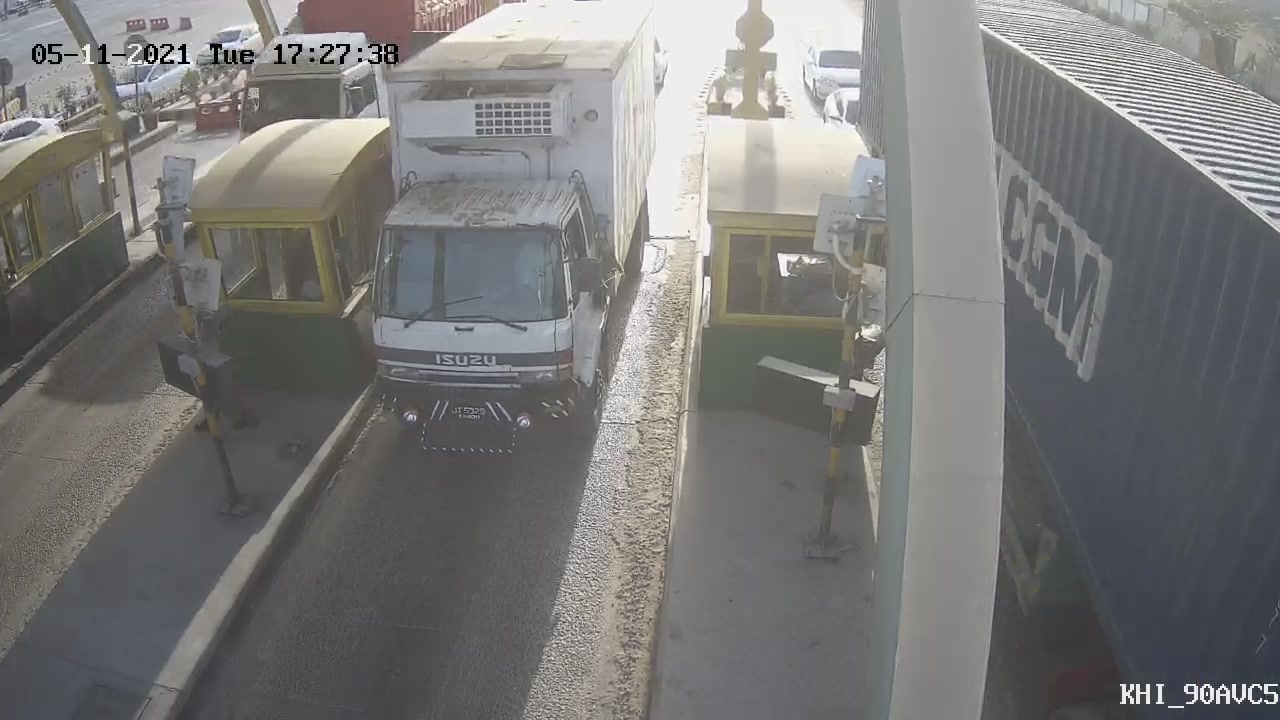F5: (301, 1, 682, 478)
